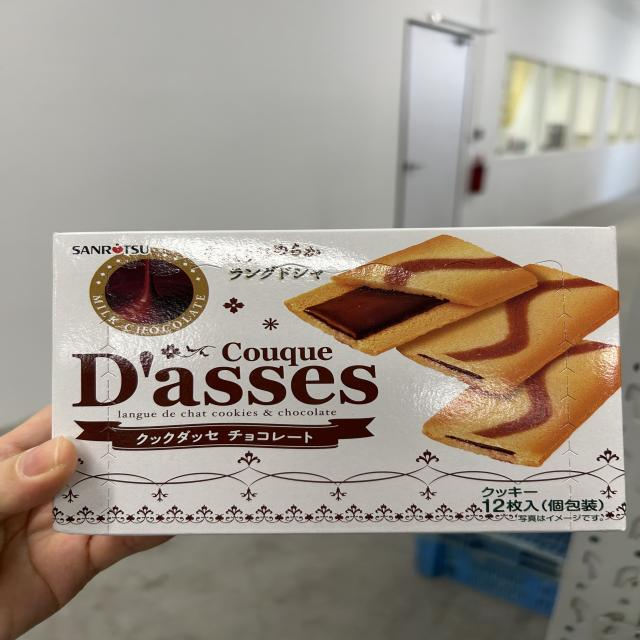object_name: (60, 237, 625, 529)
